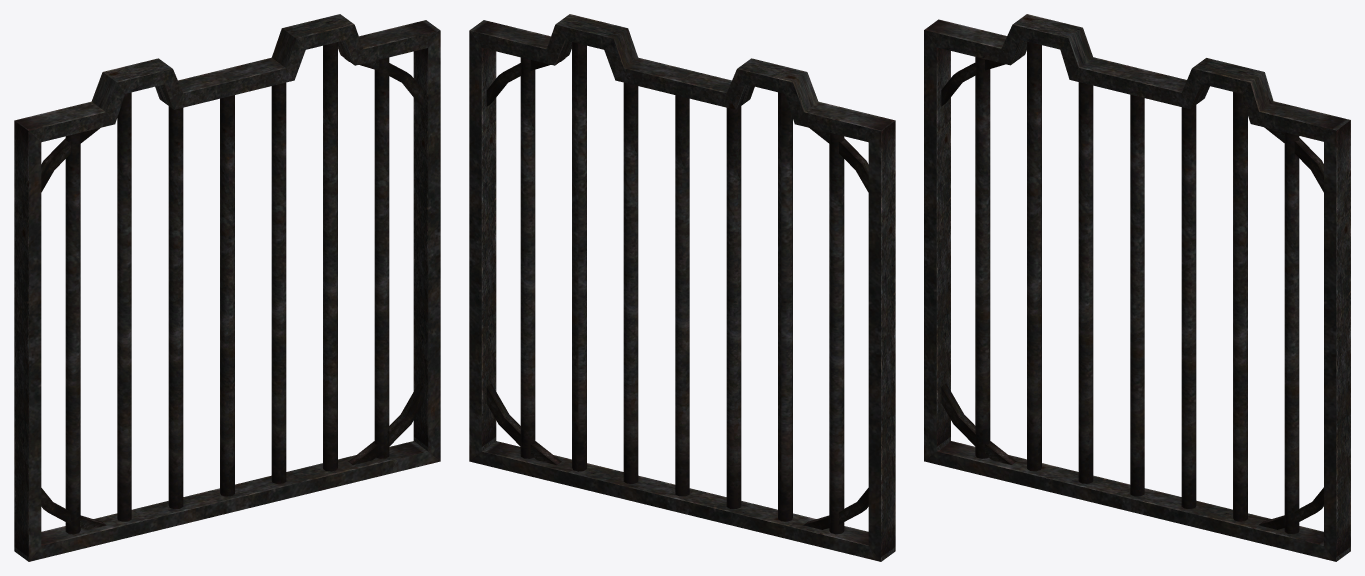
The model's file is sewer_grate_new.dae.
3 renders of one model, left to right at view 1: azimuth 30°, elevation 25°; view 2: azimuth 150°, elevation 25°; view 3: azimuth 330°, elevation 25°, orthographic.
Parts seen in each view (by area): view 1: polySurface17; view 2: polySurface17; view 3: polySurface17.
Boxes of the visible parts, box(x1,y1,x2,y2) form: polySurface17: box(14, 14, 440, 561); polySurface17: box(469, 14, 895, 561); polySurface17: box(924, 14, 1350, 561).
Size of the model in its own units: 4 by 4.25 by 0.2437.
